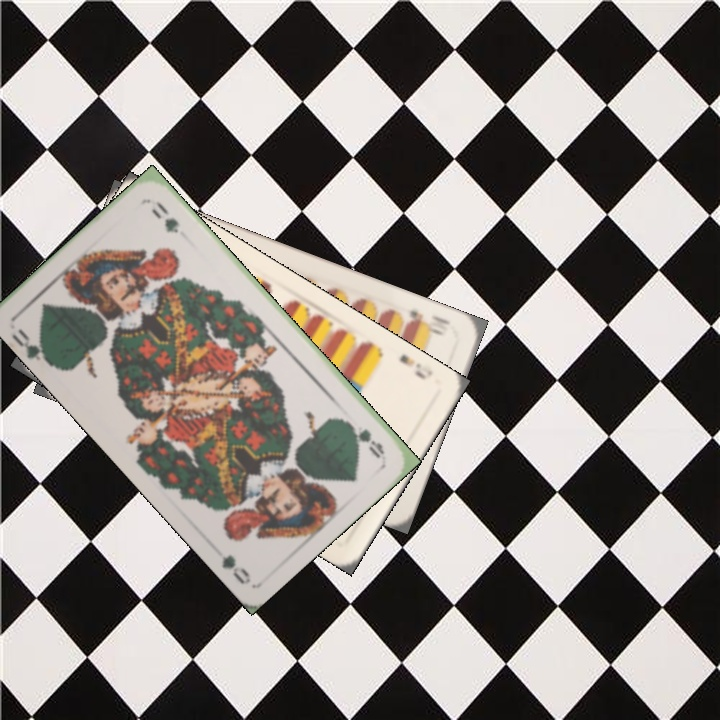E10: (403, 306, 452, 338)
E9: (395, 350, 436, 382)
GO: (9, 325, 58, 369), (340, 416, 387, 461)
